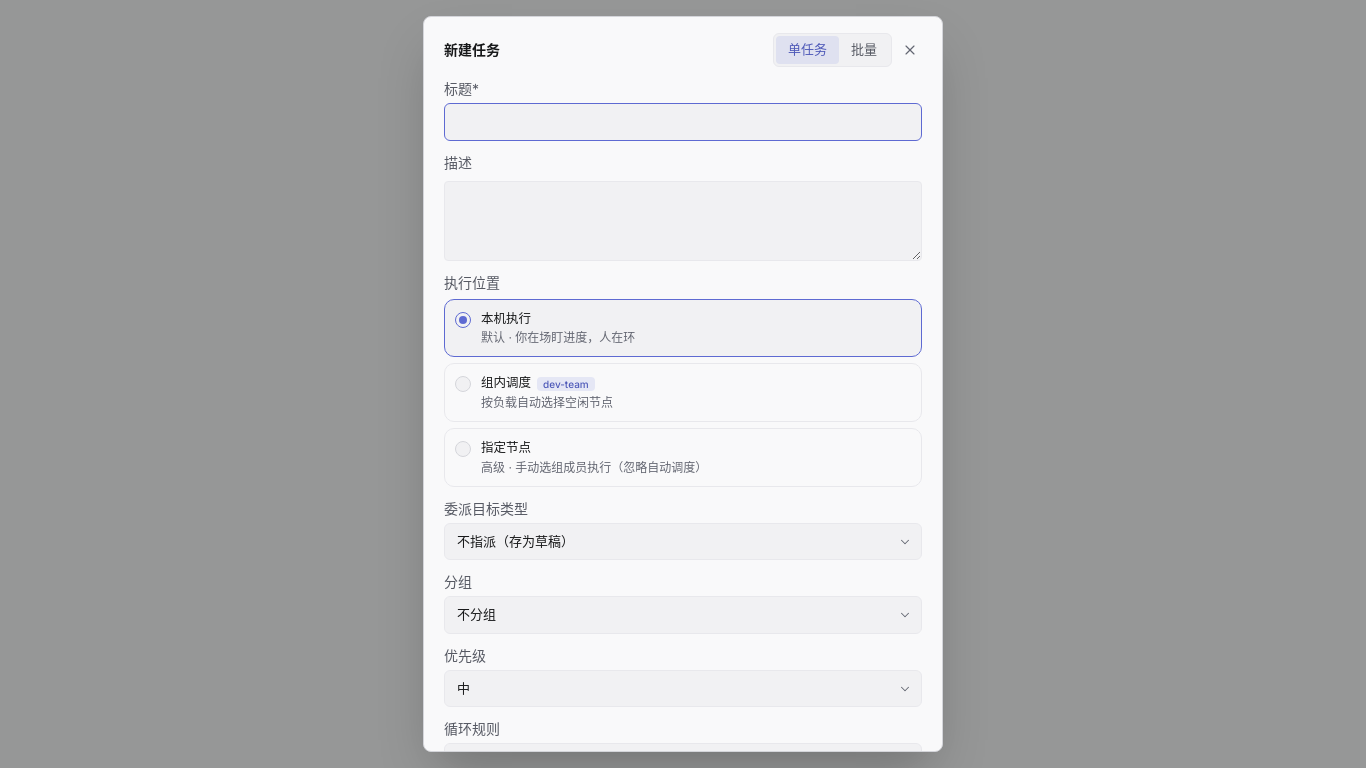
Scenario: CreateTaskDialog — 单/批量与执行位置（M2.1 T8） › T10-3. 本机模式无档位行（local 提交不涉权限档位）；local→外派切换档位行进场
Expected: the radio button named "本机执行" is shown, [455,312,471,328]
Expected: the element "权限策略" is not shown
// 切外派 → 档位行进场且默认 confirm
Click the radio button named "组内调度" at (463, 384), box [455,376,471,392]
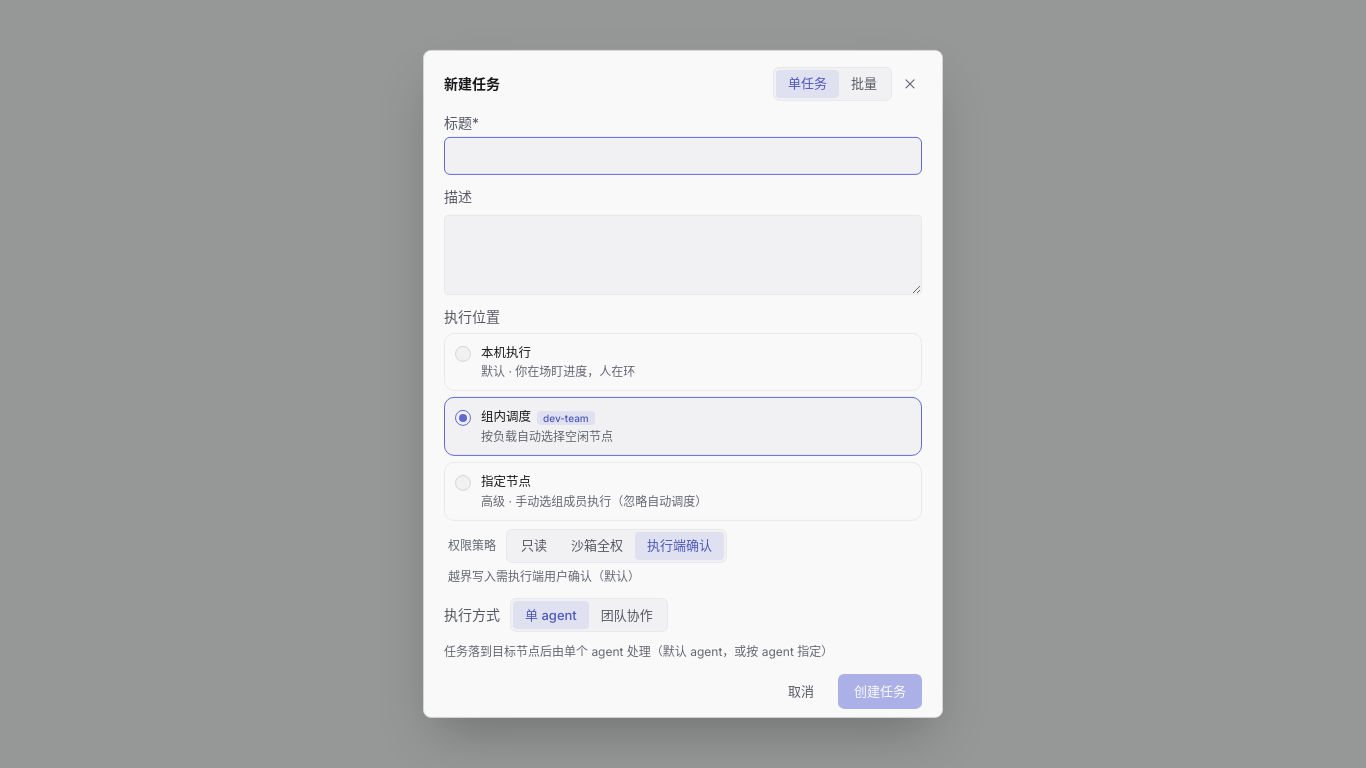
// 回本机 → 档位行退场（值保留但不随 local 提交透传）
Click the radio button named "本机执行" at (463, 353), box [455,345,471,361]
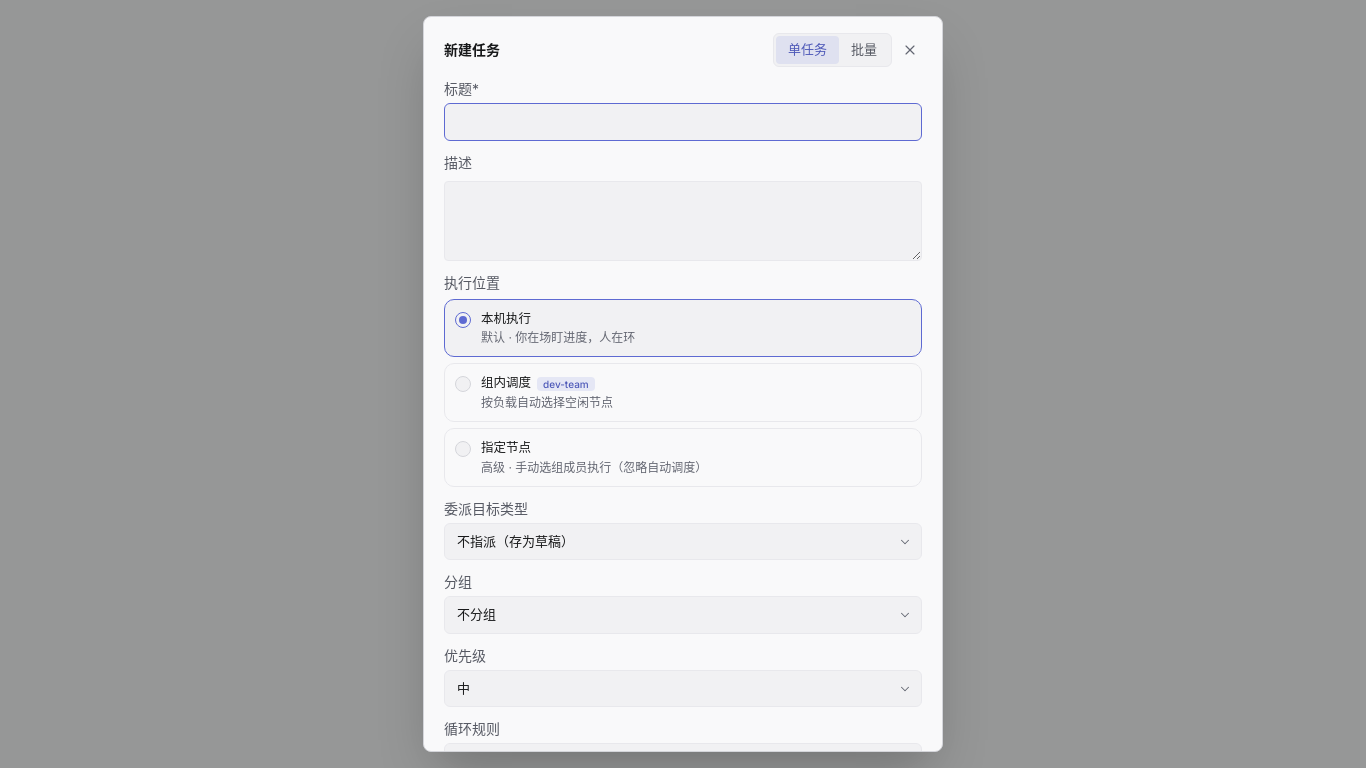
Now the text "权限策略" is gone
